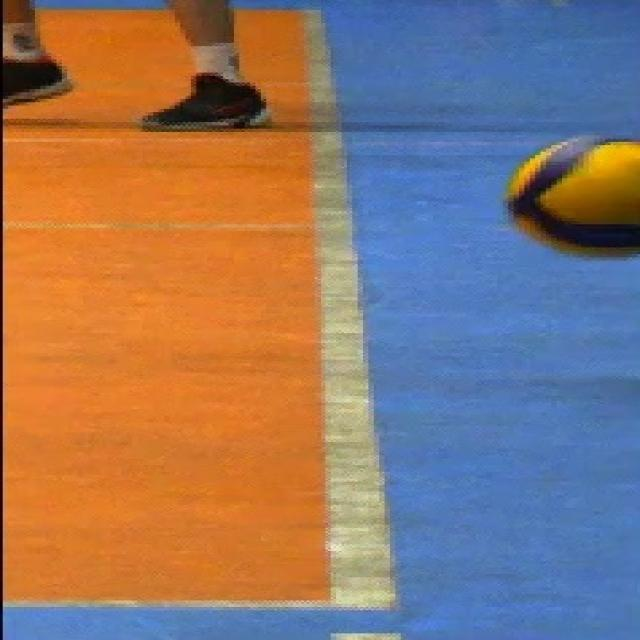Volleyball: (506, 133, 640, 259)
